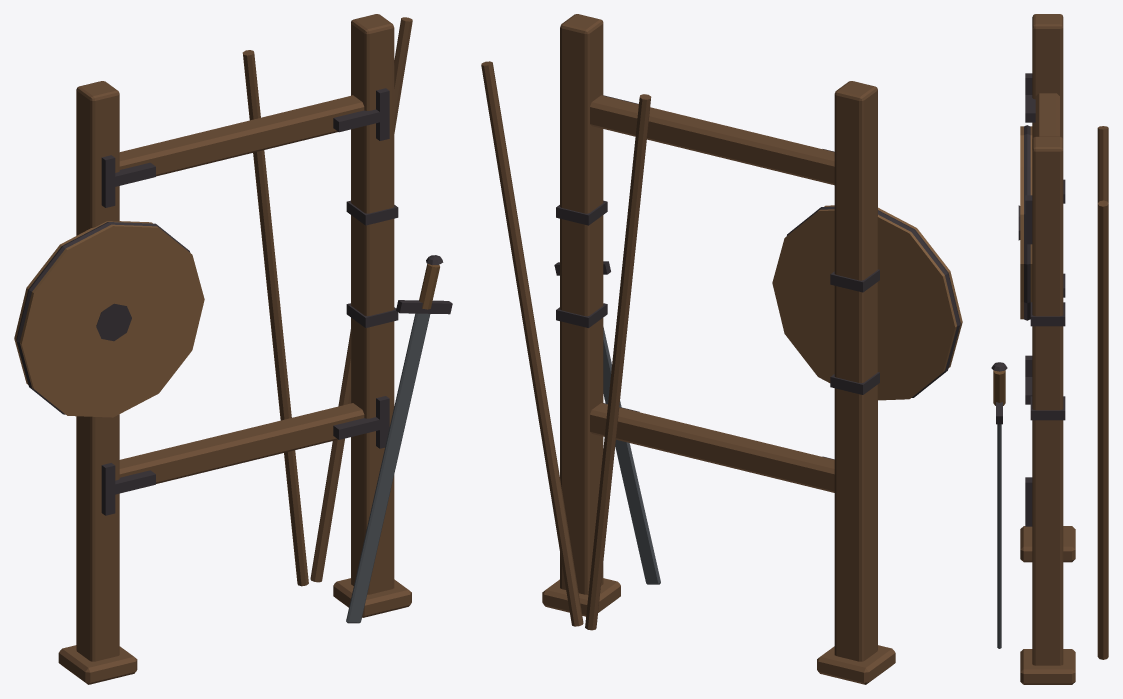
File: SM_Furn_WeaponRack_03.fbx
The picture shows the model from 3 angles, left to right: view 1: azimuth 30°, elevation 25°; view 2: azimuth 150°, elevation 25°; view 3: azimuth 270°, elevation 25°; orthographic projection. The views are drawn at different scales.
Parts seen in each view (by area): view 1: SM_Furn_WeaponRack_03_Shield, SM_Furn_WeaponRack_03_Post1, SM_Furn_WeaponRack_03_Post0, SM_Furn_WeaponRack_03_Crossbar0, SM_Furn_WeaponRack_03_Crossbar1, SM_Furn_WeaponRack_03_Spear1, SM_Furn_WeaponRack_03_SwordBlade, SM_Furn_WeaponRack_03_Spear0, SM_Furn_WeaponRack_03_Foot0, SM_Furn_WeaponRack_03_Foot1, SM_Furn_WeaponRack_03_ShieldRim, SM_Furn_WeaponRack_03_ShieldBoss (+8 smaller); view 2: SM_Furn_WeaponRack_03_Post0, SM_Furn_WeaponRack_03_Post1, SM_Furn_WeaponRack_03_Shield, SM_Furn_WeaponRack_03_Crossbar1, SM_Furn_WeaponRack_03_Crossbar0, SM_Furn_WeaponRack_03_Spear0, SM_Furn_WeaponRack_03_Spear1, SM_Furn_WeaponRack_03_SwordBlade, SM_Furn_WeaponRack_03_Foot0, SM_Furn_WeaponRack_03_Foot1, SM_Furn_WeaponRack_03_ShieldRim; view 3: SM_Furn_WeaponRack_03_Post1, SM_Furn_WeaponRack_03_Spear0, SM_Furn_WeaponRack_03_Post0, SM_Furn_WeaponRack_03_Foot1, SM_Furn_WeaponRack_03_Shield, SM_Furn_WeaponRack_03_ShieldRim, SM_Furn_WeaponRack_03_SwordBlade, SM_Furn_WeaponRack_03_Crossbar1, SM_Furn_WeaponRack_03_Foot0, SM_Furn_WeaponRack_03_Spear1, SM_Furn_WeaponRack_03_Strap11, SM_Furn_WeaponRack_03_Strap10 (+5 smaller).
Part boxes in pixels (<box>): SM_Furn_WeaponRack_03_Shield: <box>14,221,204,417</box>; SM_Furn_WeaponRack_03_Post1: <box>351,14,394,594</box>; SM_Furn_WeaponRack_03_Post0: <box>76,81,119,661</box>; SM_Furn_WeaponRack_03_Crossbar0: <box>119,403,364,483</box>; SM_Furn_WeaponRack_03_Crossbar1: <box>119,95,364,176</box>; SM_Furn_WeaponRack_03_Spear1: <box>242,50,308,586</box>; SM_Furn_WeaponRack_03_SwordBlade: <box>346,313,430,623</box>; SM_Furn_WeaponRack_03_Spear0: <box>310,17,412,582</box>; SM_Furn_WeaponRack_03_Foot0: <box>58,645,137,684</box>; SM_Furn_WeaponRack_03_Foot1: <box>333,578,411,617</box>; SM_Furn_WeaponRack_03_ShieldRim: <box>16,222,190,414</box>; SM_Furn_WeaponRack_03_ShieldBoss: <box>96,303,131,341</box>; SM_Furn_WeaponRack_03_Post0: <box>834,81,877,661</box>; SM_Furn_WeaponRack_03_Post1: <box>560,14,603,594</box>; SM_Furn_WeaponRack_03_Shield: <box>772,205,962,400</box>; SM_Furn_WeaponRack_03_Crossbar1: <box>590,95,834,185</box>; SM_Furn_WeaponRack_03_Crossbar0: <box>590,403,834,492</box>; SM_Furn_WeaponRack_03_Spear0: <box>481,61,583,626</box>; SM_Furn_WeaponRack_03_Spear1: <box>585,94,651,630</box>; SM_Furn_WeaponRack_03_SwordBlade: <box>603,327,660,584</box>; SM_Furn_WeaponRack_03_Foot0: <box>817,645,895,684</box>; SM_Furn_WeaponRack_03_Foot1: <box>542,578,620,616</box>; SM_Furn_WeaponRack_03_ShieldRim: <box>787,206,960,397</box>; SM_Furn_WeaponRack_03_Post1: <box>1032,136,1063,665</box>; SM_Furn_WeaponRack_03_Spear0: <box>1097,200,1108,659</box>; SM_Furn_WeaponRack_03_Post0: <box>1032,14,1063,139</box>; SM_Furn_WeaponRack_03_Foot1: <box>1020,649,1075,684</box>; SM_Furn_WeaponRack_03_Shield: <box>1020,126,1032,319</box>; SM_Furn_WeaponRack_03_ShieldRim: <box>1024,125,1030,320</box>; SM_Furn_WeaponRack_03_SwordBlade: <box>997,424,1001,648</box>; SM_Furn_WeaponRack_03_Crossbar1: <box>1035,93,1059,136</box>; SM_Furn_WeaponRack_03_Foot0: <box>1020,526,1075,562</box>; SM_Furn_WeaponRack_03_Spear1: <box>1097,126,1108,202</box>; SM_Furn_WeaponRack_03_Strap11: <box>1030,302,1065,326</box>; SM_Furn_WeaponRack_03_Strap10: <box>1030,396,1065,420</box>.
Size of the model in its own units: 1.34 by 1.7 by 0.34.
